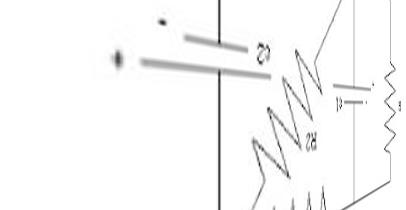resistor: (250, 39, 322, 182), (377, 53, 394, 155)
